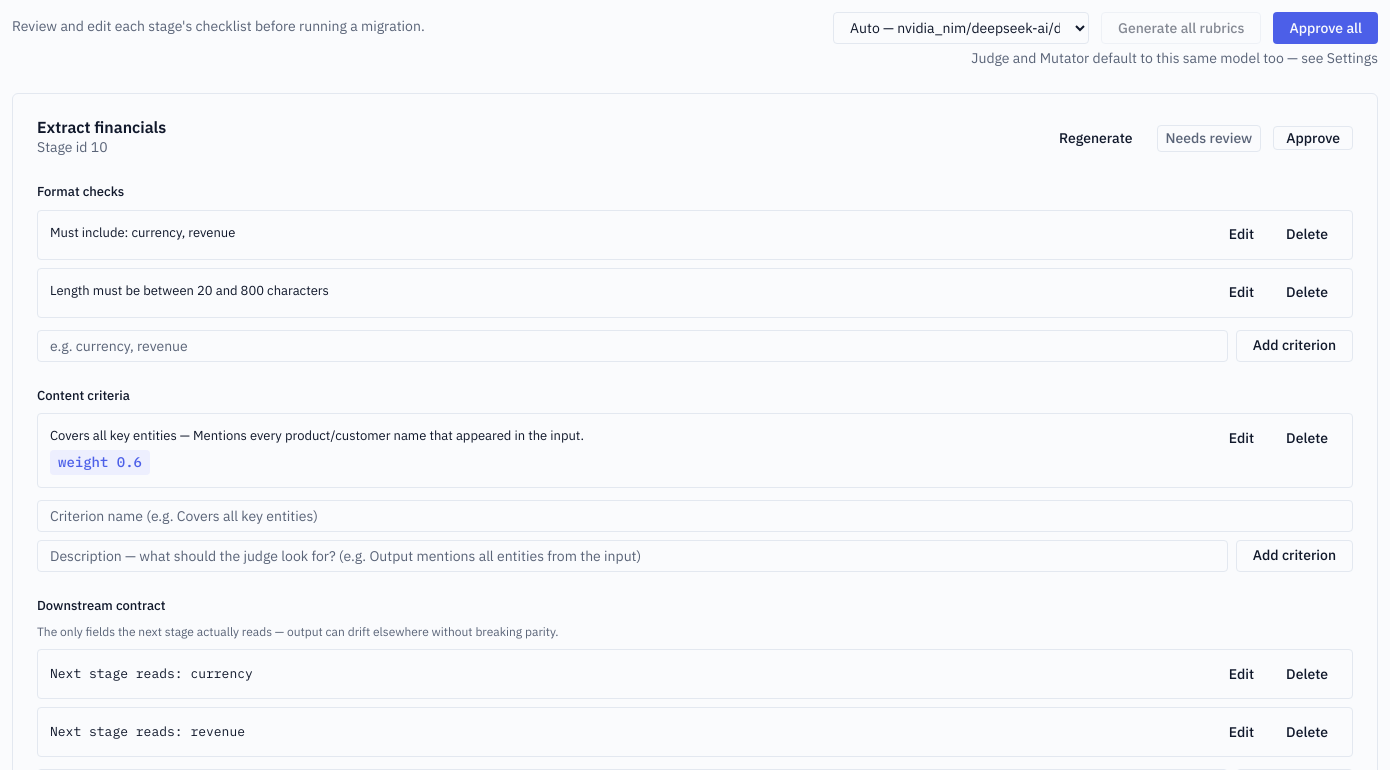
Test: RubricReviewPanel › deletes a format check and PATCHes the remaining list
Expected: the text "Must include: currency, revenue" is shown, [50,223,235,242]
Click the button "Delete" in the row of "Must include: currency, revenue".
click(1307, 235)  # box [1274,223,1340,247]
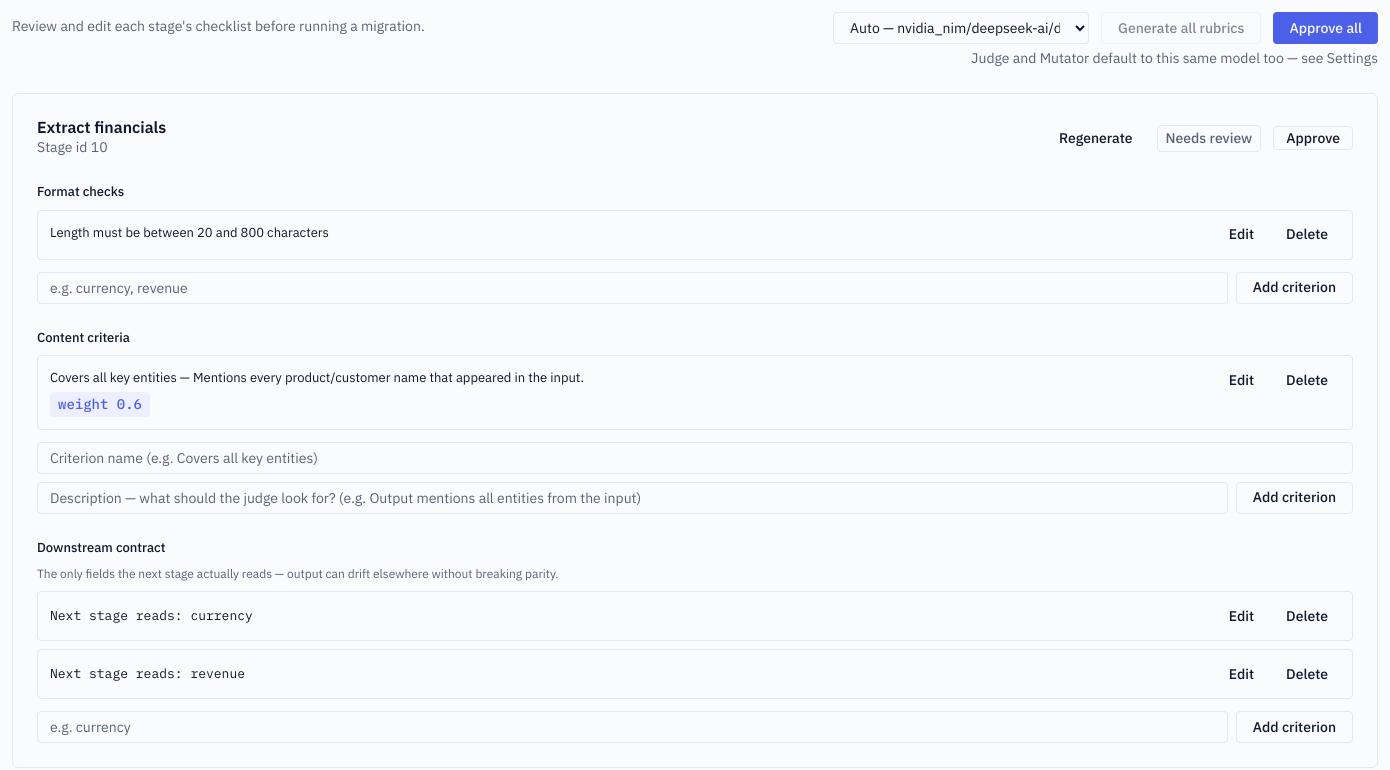
Expected: the text "Must include: currency, revenue" is gone
